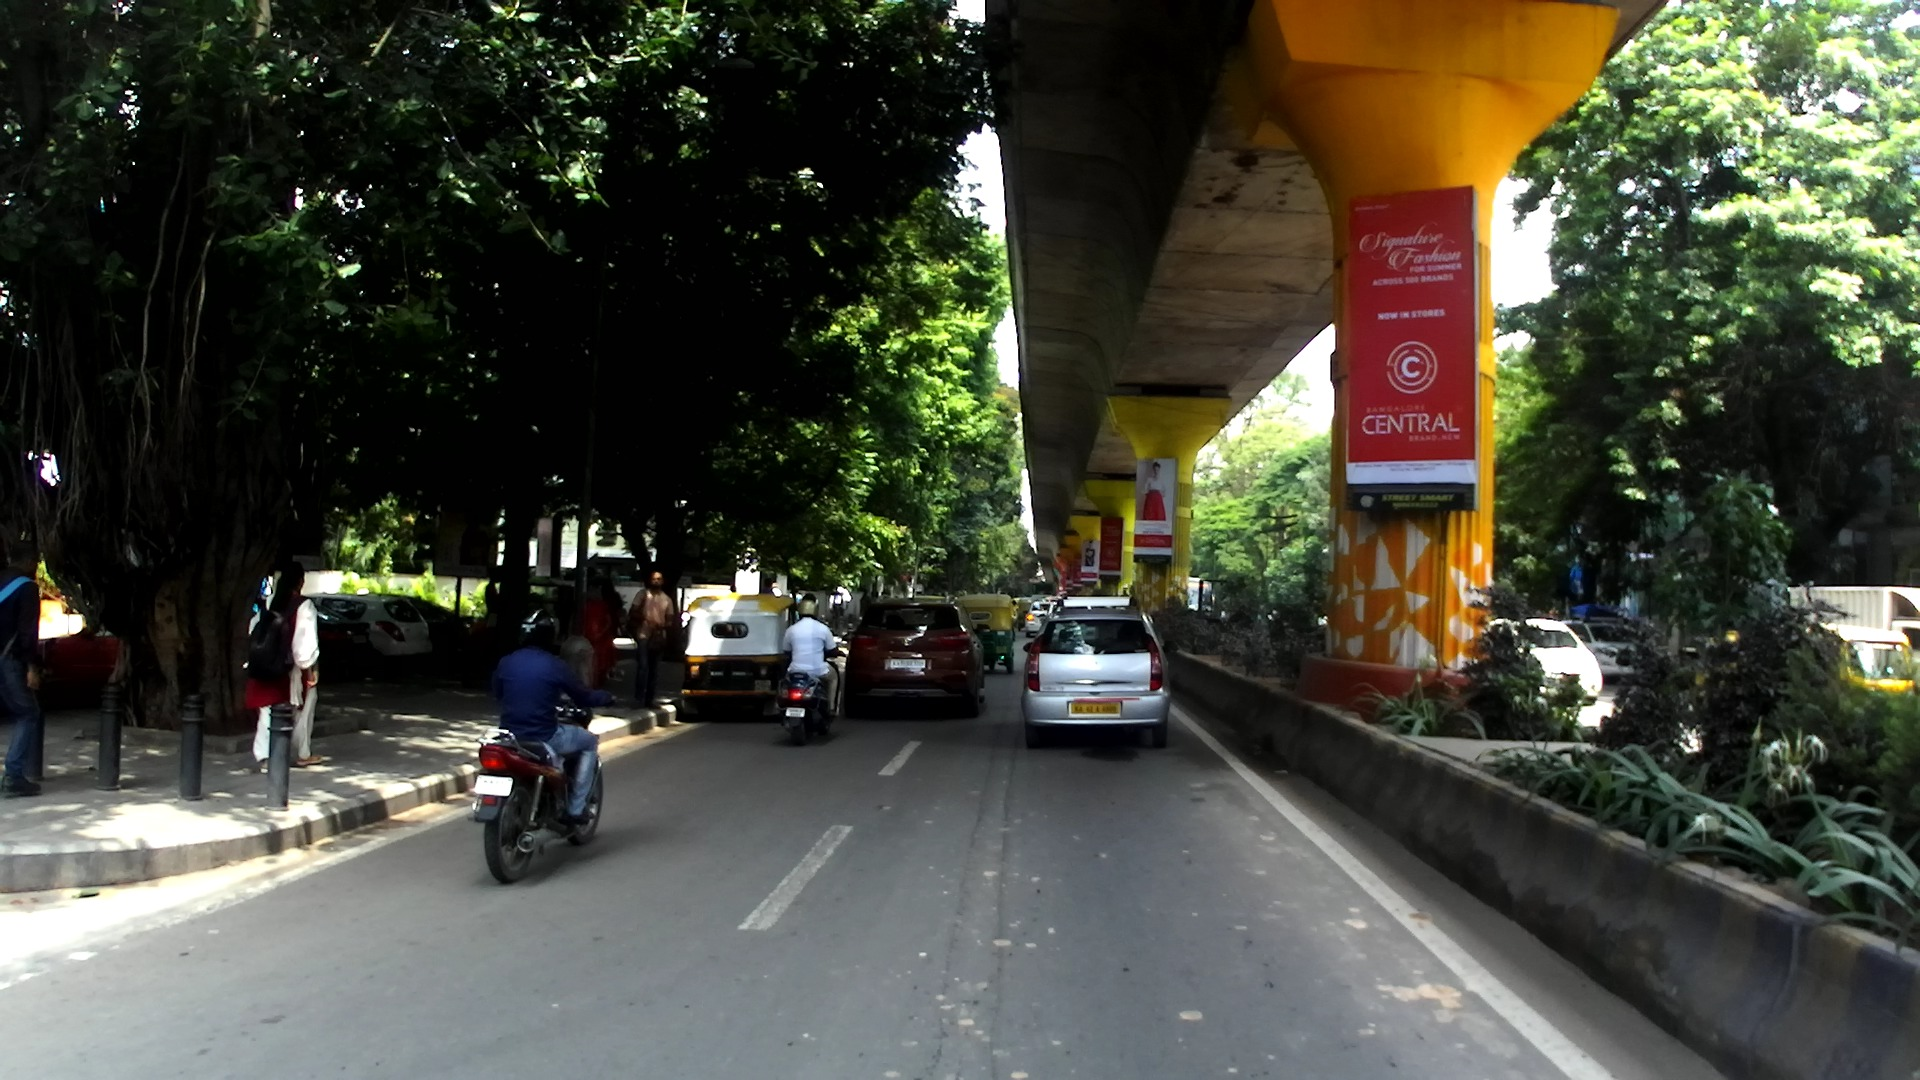autorickshaw: (679, 595, 798, 722), (1825, 623, 1920, 690), (956, 594, 1016, 676), (1017, 599, 1028, 631)
bus: (1032, 581, 1057, 594)
car: (1023, 597, 1179, 750), (842, 589, 992, 718), (302, 594, 434, 680), (1492, 618, 1602, 706), (249, 601, 371, 678), (30, 635, 120, 708), (404, 596, 477, 677), (1561, 617, 1638, 683), (1026, 602, 1056, 638)
motorcycle: (468, 670, 624, 883), (775, 633, 848, 746), (617, 596, 628, 635)
person: (243, 559, 331, 767), (0, 542, 40, 797), (628, 570, 676, 709), (585, 579, 615, 683), (602, 569, 621, 639), (484, 565, 505, 623), (829, 581, 850, 636), (858, 589, 869, 617), (759, 575, 774, 594), (789, 587, 803, 602), (586, 565, 600, 577), (561, 571, 574, 580), (728, 584, 737, 592)
rider: (491, 608, 616, 821), (784, 600, 841, 717), (880, 587, 893, 601), (800, 595, 822, 602), (869, 591, 879, 603)
traffic light: (1199, 581, 1204, 604)
truck: (1791, 588, 1918, 648)
vehicle fallback: (526, 576, 577, 654), (1679, 632, 1740, 686), (1568, 602, 1622, 620), (1189, 577, 1212, 613), (1011, 598, 1019, 625), (1032, 595, 1050, 601), (1316, 617, 1329, 625), (1044, 596, 1059, 603)
